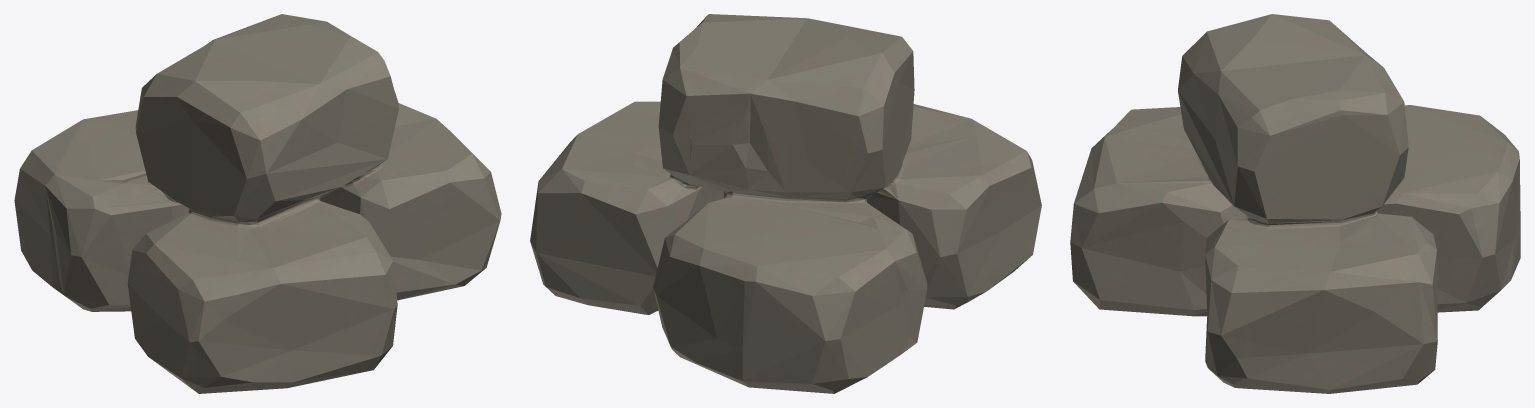
File: stone.glb
3 views of the same model, side by side, from view 1: azimuth 30°, elevation 25°; view 2: azimuth 150°, elevation 25°; view 3: azimuth 270°, elevation 25° (orthographic).
Parts seen in each view (by area): view 1: tripo_node_3ebdd7f1-fe6f-4ab3-bbd1-360445754a47; view 2: tripo_node_3ebdd7f1-fe6f-4ab3-bbd1-360445754a47; view 3: tripo_node_3ebdd7f1-fe6f-4ab3-bbd1-360445754a47.
Part boxes in pixels (x1,y1,x2,y2): tripo_node_3ebdd7f1-fe6f-4ab3-bbd1-360445754a47: (14,14,501,393); tripo_node_3ebdd7f1-fe6f-4ab3-bbd1-360445754a47: (530,14,1041,393); tripo_node_3ebdd7f1-fe6f-4ab3-bbd1-360445754a47: (1070,14,1520,393).
Bounding box in the file's own units: 0.936 × 0.6091 × 0.9944.
Materials: 1 (1 with a texture image).
